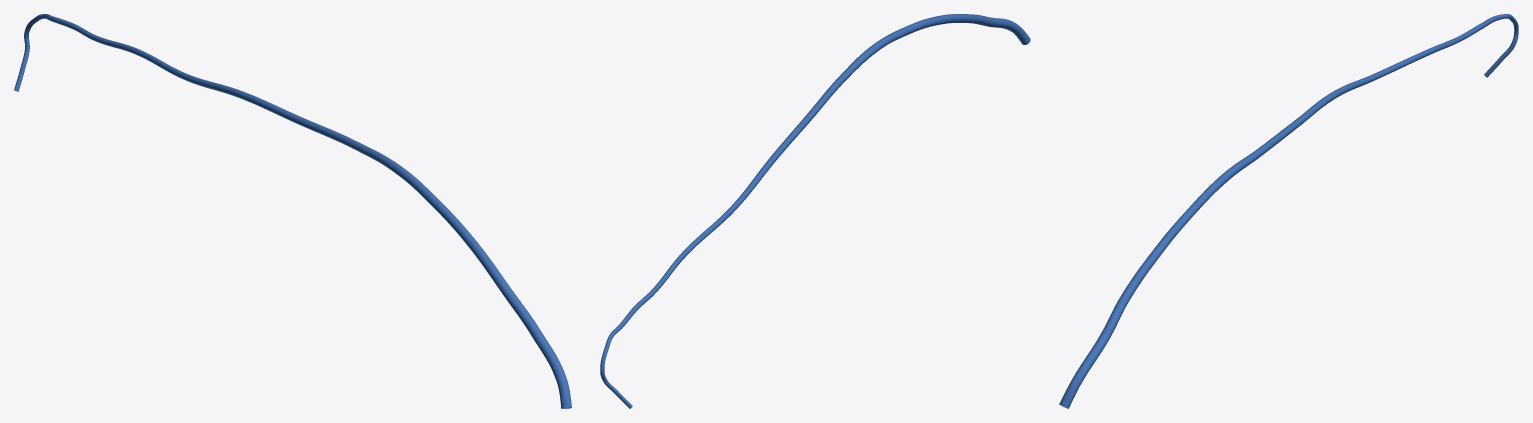
The picture shows the model from 3 angles, left to right: view 1: azimuth 30°, elevation 25°; view 2: azimuth 150°, elevation 25°; view 3: azimuth 330°, elevation 25°; orthographic projection. The views are drawn at different scales.
Visible parts, largest first — view 1: 右侧小隐静脉; view 2: 右侧小隐静脉; view 3: 右侧小隐静脉.
Part boxes in pixels (x1,y1,x2,y2): 右侧小隐静脉: (14, 14, 571, 408); 右侧小隐静脉: (600, 14, 1030, 408); 右侧小隐静脉: (1059, 14, 1518, 408).
Size of the model in its own units: 0.0517 by 0.1111 by 0.6724.
